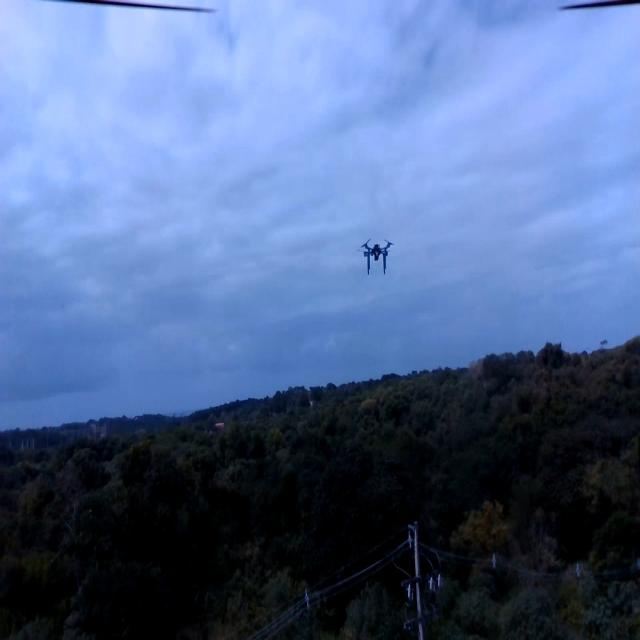-uav-: (356, 229, 398, 285)
